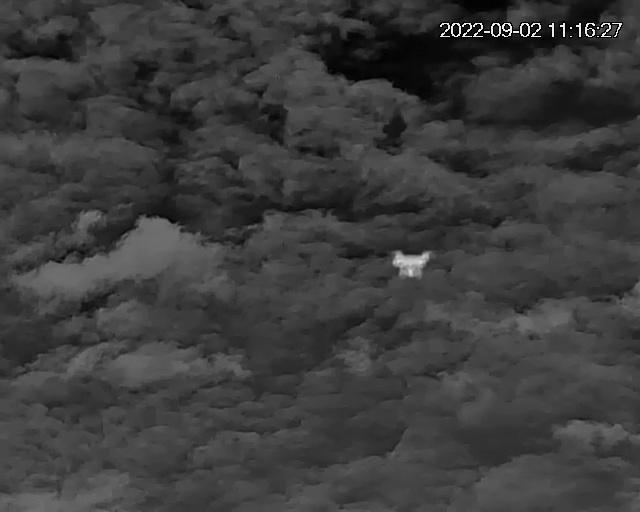DJI-Phantom: (392, 248, 436, 281)
